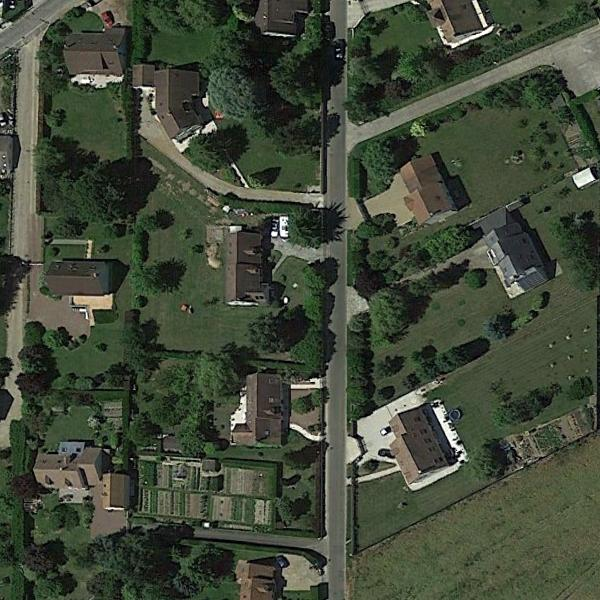Buildings: (37, 443, 129, 506), (62, 25, 139, 85), (142, 61, 201, 131), (235, 369, 284, 447), (390, 408, 448, 473), (40, 253, 113, 303), (482, 224, 548, 277), (225, 228, 266, 313), (418, 0, 478, 39), (404, 160, 443, 216), (260, 0, 312, 41), (237, 563, 280, 597), (3, 137, 18, 176)
